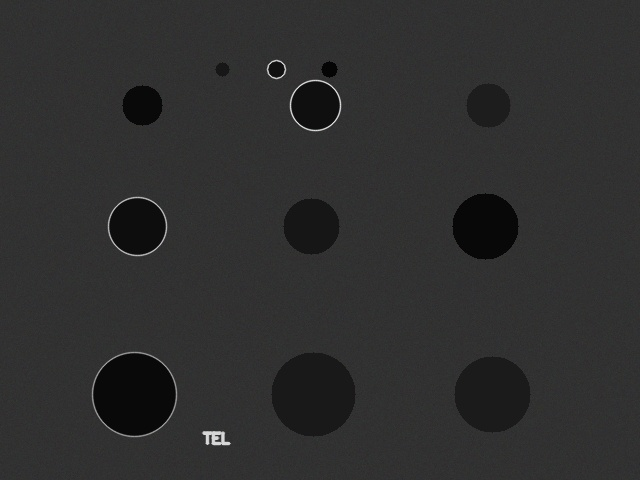hole: (92, 352, 176, 436), (271, 352, 355, 436), (454, 356, 530, 432), (452, 193, 518, 259), (108, 197, 166, 255), (283, 198, 339, 254), (290, 80, 340, 130), (466, 83, 510, 127), (122, 85, 162, 125), (267, 60, 285, 78), (321, 61, 337, 77), (215, 62, 229, 76)
